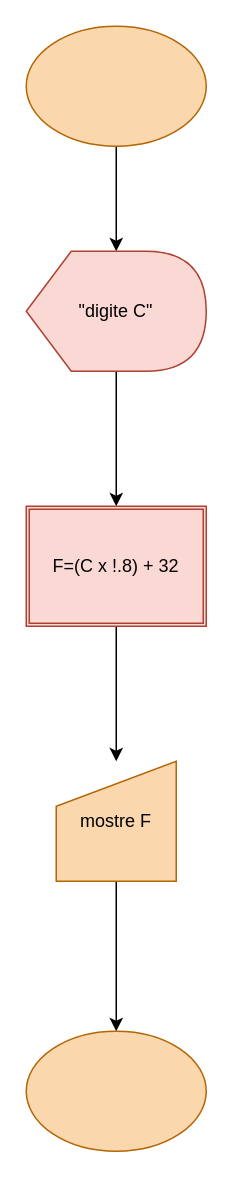
Image size: 233x1178. Some labels were removed from this diagram. The shapes that lost their labels are listed below. From the top down, each one's centre as x and y in pixels, then its label:
point 115,85: INICIO
point 115,1090: FIM
